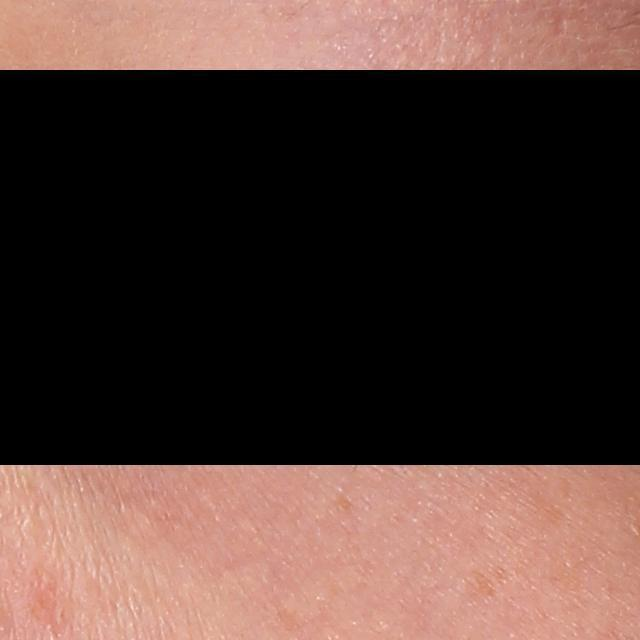melasma: (462, 561, 511, 603)
